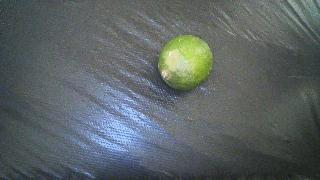DESECHO: (158, 35, 213, 90)
